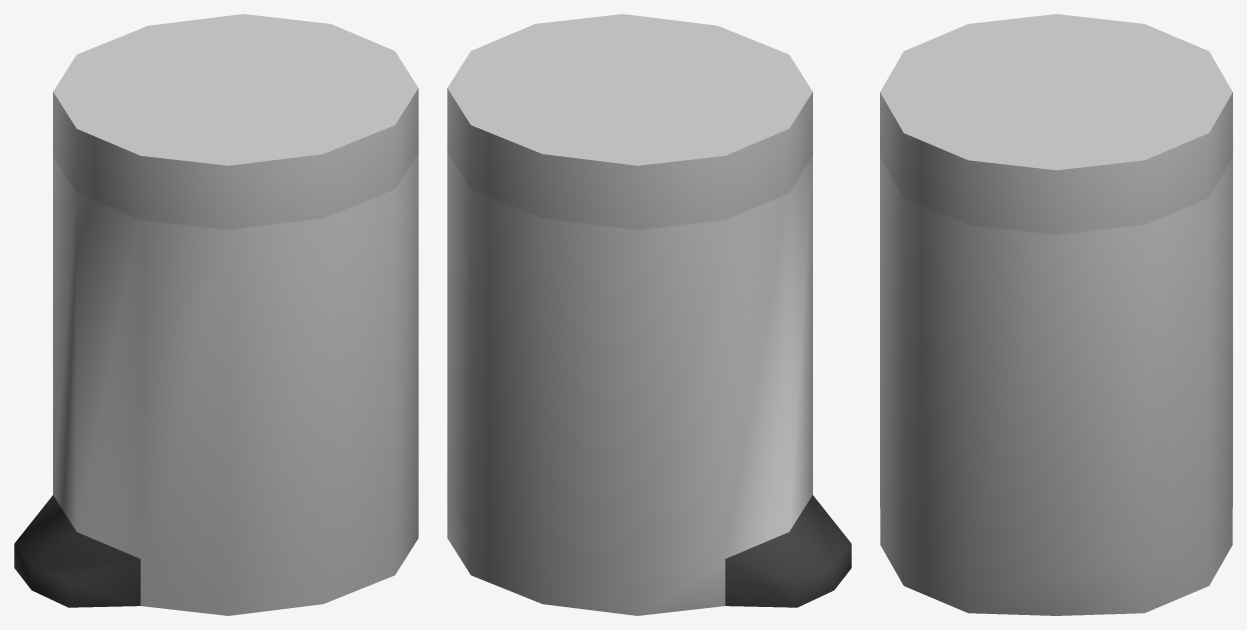
The model's file is House Trashbin.fbx.
3 views of the same model, side by side, from view 1: azimuth 30°, elevation 25°; view 2: azimuth 150°, elevation 25°; view 3: azimuth 270°, elevation 25° (orthographic).
Visible parts, largest first — view 1: house Trash bin; view 2: house Trash bin; view 3: house Trash bin.
Part boxes in pixels (x1,y1,x2,y2): house Trash bin: (14,14,418,615); house Trash bin: (447,14,851,615); house Trash bin: (880,14,1232,615).
Size of the model in its own units: 0.8129 by 0.9629 by 0.6791.
Materials: 1 (1 with a texture image).
